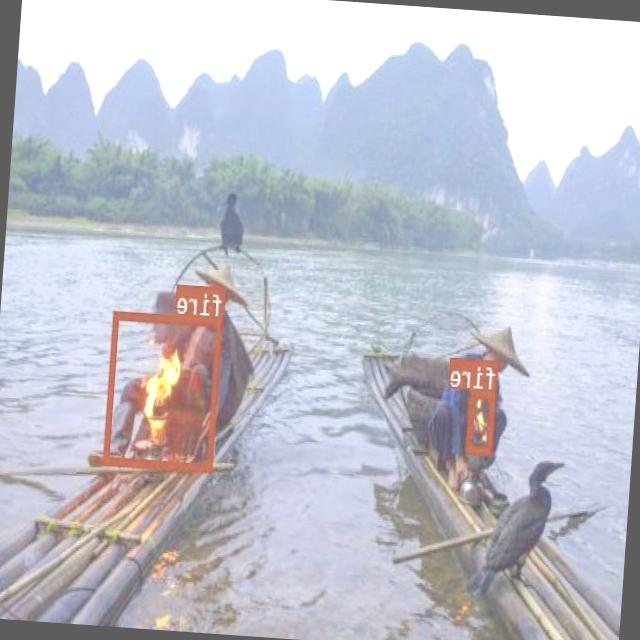fire: (104, 308, 224, 471), (467, 388, 497, 454)
